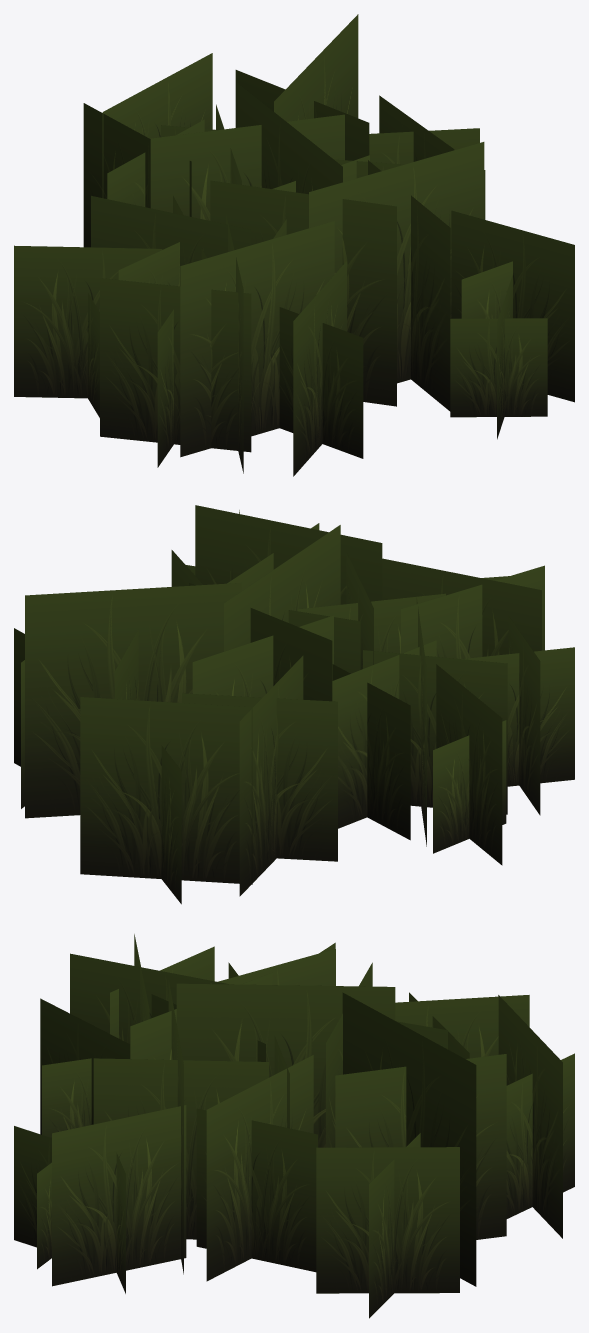
Rendered from Grass_04.fbx.
The picture shows the model from 3 angles, top to bottom: view 1: azimuth 30°, elevation 25°; view 2: azimuth 150°, elevation 25°; view 3: azimuth 270°, elevation 25°; orthographic projection. The views are drawn at different scales.
Visible parts, largest first — view 1: Grass_04; view 2: Grass_04; view 3: Grass_04.
Boxes of the visible parts, left/top/right/bottom form: Grass_04: left=14, top=14, right=574, bottom=476; Grass_04: left=14, top=505, right=574, bottom=904; Grass_04: left=14, top=934, right=574, bottom=1318.
Size of the model in its own units: 3.09 by 1.4 by 3.19.
Materials: 1 (1 with a texture image).
